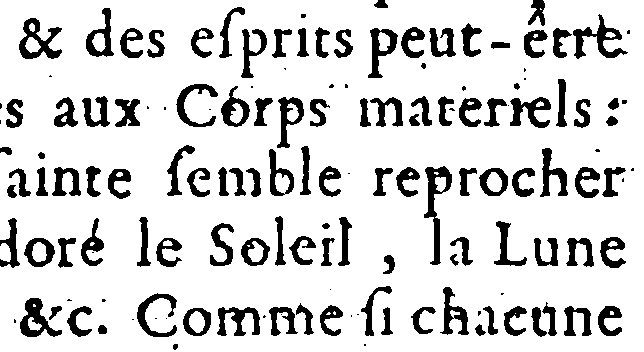o: (237, 233, 275, 274), (22, 235, 56, 270), (222, 91, 251, 132), (181, 304, 214, 340), (479, 164, 511, 201)
